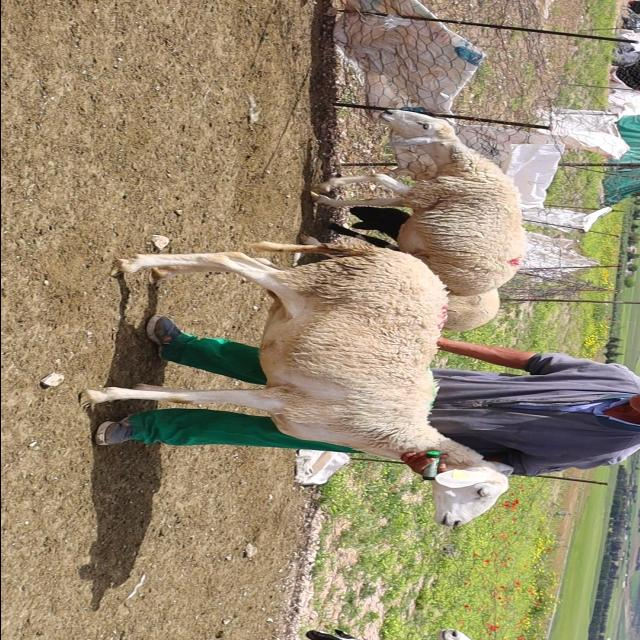Score_3: (82, 241, 507, 526)
